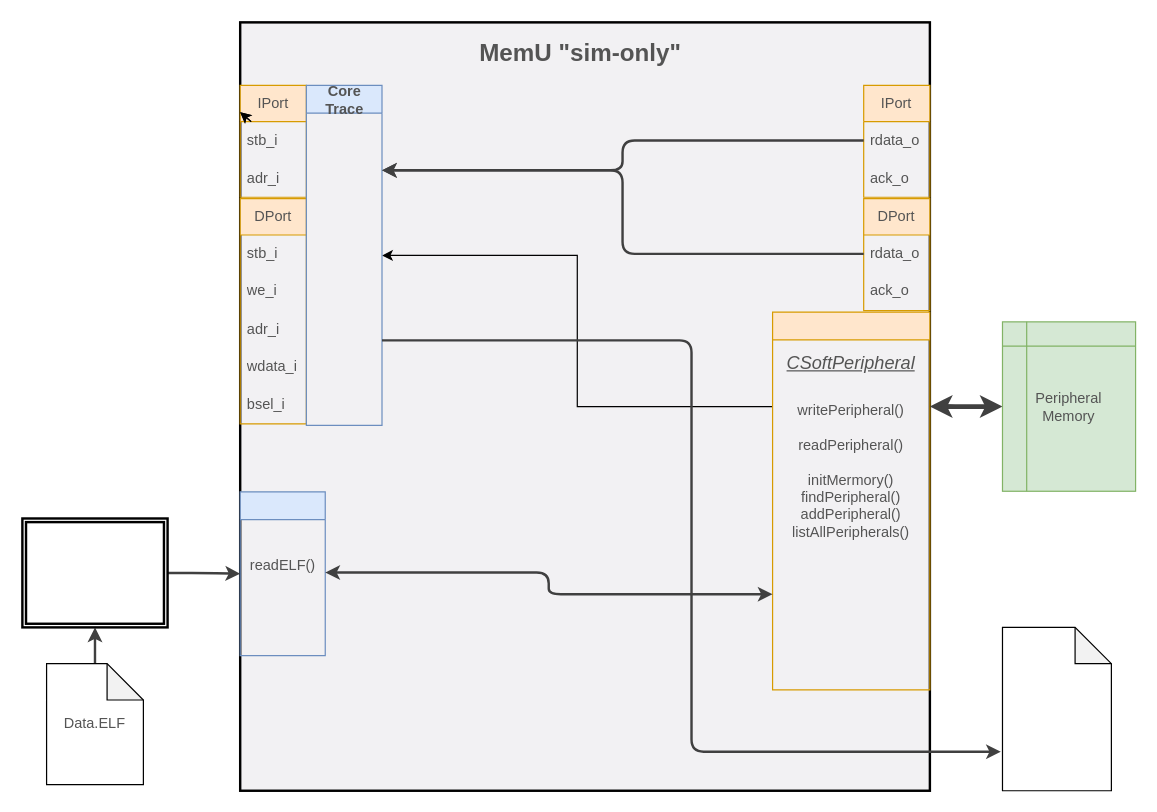
This 1157x812 diagram has some shape labels left out. Here are the shapes that lost their labels. From the top down, the box of each, then its label:
(771, 311, 930, 690): Peripheral Interface
(21, 517, 168, 628): elf_reader.h
(239, 491, 325, 656): ELF-Loader
(1001, 626, 1111, 791): core_trace.log
